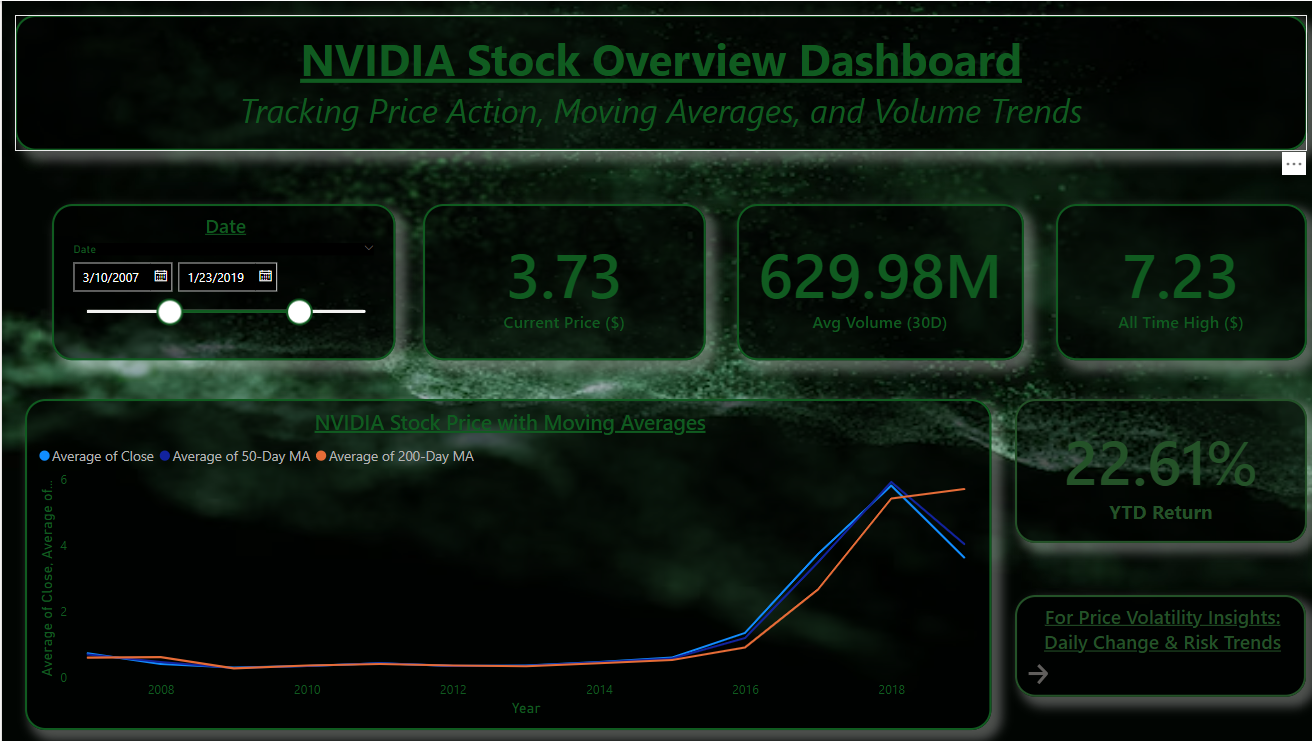

The page's visual inventory and layout, read from the dashboard file:
{"tool":"powerbi","page":{"name":"Page 1","canvas":[1280,720],"ordinal":0},"visuals":[{"type":"lineChart","title":"NVIDIA Stock Price with Moving Averages","fields":{"Category":["Cleaned_NVDA_Dataset.Date.Variation.Date Hierarchy.Year","Cleaned_NVDA_Dataset.Date.Variation.Date Hierarchy.Quarter","Cleaned_NVDA_Dataset.Date.Variation.Date Hierarchy.Month","Cleaned_NVDA_Dataset.Date.Variation.Date Hierarchy.Day"],"Y":["Avg(Cleaned_NVDA_Dataset.Close)","Avg(Cleaned_NVDA_Dataset.50-Day MA)","Avg(Cleaned_NVDA_Dataset.200-Day MA)"]},"box":[22.4,387.1,939.6,321.9],"z":0},{"type":"card","fields":{"Values":["Cleaned_NVDA_Dataset.Current Price"]},"box":[409.4,197.4,275.2,152.2],"z":1000},{"type":"card","fields":{"Values":["Cleaned_NVDA_Dataset.All Time High"]},"box":[1025.1,197.4,243.6,152.2],"z":2000},{"type":"card","fields":{"Values":["Cleaned_NVDA_Dataset.Avg Volume 30D"]},"box":[715,197.4,278.6,152.2],"z":3000},{"type":"slicer","title":"Date","fields":{"Values":["Cleaned_NVDA_Dataset.Date"]},"box":[48.5,197.4,333.8,152.2],"z":4000},{"type":"textbox","box":[12.6,13.6,1256.7,132.3],"z":5000},{"type":"card","fields":{"Values":["Cleaned_NVDA_Dataset.YTD Return"]},"box":[985.3,387.1,284,140.1],"z":6000},{"type":"actionButton","title":"For Price Volatility Insights: Daily Change & Risk Trends","box":[985.7,577.4,283.1,99.2],"z":6001}]}

Visuals, with their boxes in screenshot pixels (x1, y1, x2, y2), scaled from the page's 1280x720 canvas onto the 1312x741 screenshot:
"NVIDIA Stock Price with Moving Averages" lineChart: {"left": 23, "top": 398, "right": 986, "bottom": 730}
card - Cleaned_NVDA_Dataset.Current Price: {"left": 420, "top": 203, "right": 702, "bottom": 360}
card - Cleaned_NVDA_Dataset.All Time High: {"left": 1051, "top": 203, "right": 1300, "bottom": 360}
card - Cleaned_NVDA_Dataset.Avg Volume 30D: {"left": 733, "top": 203, "right": 1018, "bottom": 360}
"Date" slicer: {"left": 50, "top": 203, "right": 392, "bottom": 360}
textbox: {"left": 13, "top": 14, "right": 1301, "bottom": 150}
card - Cleaned_NVDA_Dataset.YTD Return: {"left": 1010, "top": 398, "right": 1301, "bottom": 543}
"For Price Volatility Insights: Daily Change & Risk Trends" actionButton: {"left": 1010, "top": 594, "right": 1301, "bottom": 696}
